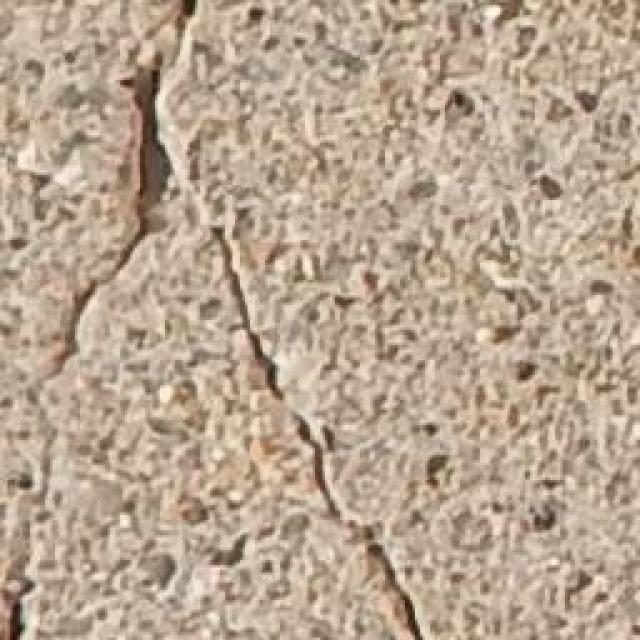concrete-crack: (0, 8, 426, 640)
